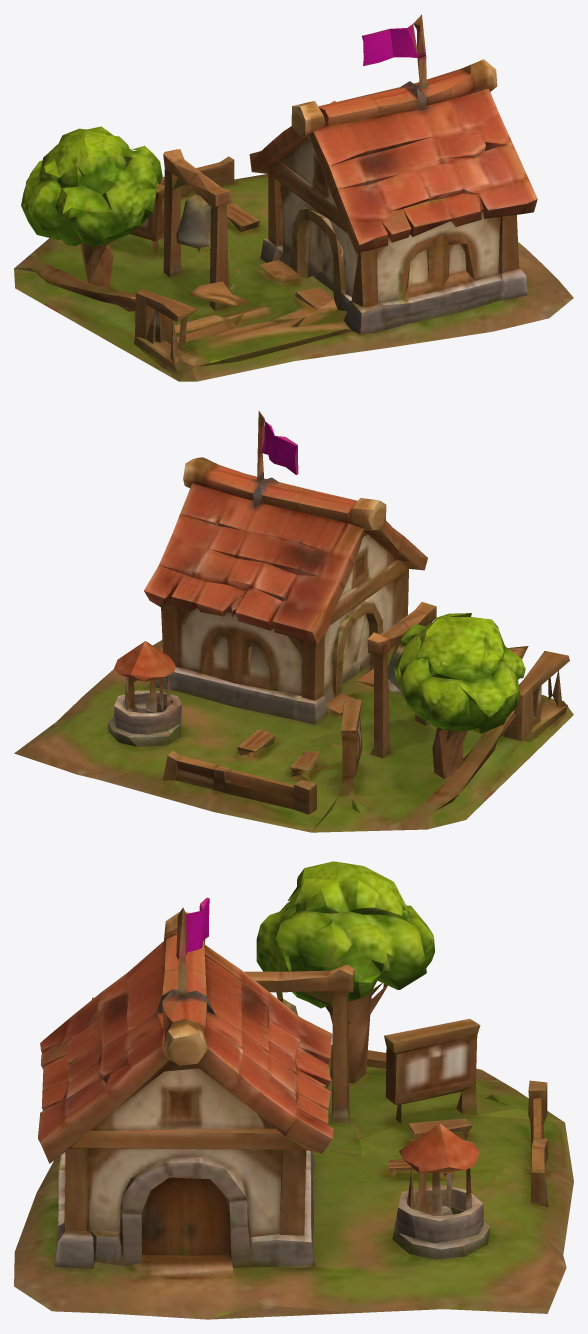
Rendered from village.lod1.glb.
3 views of the same model, one above another, from view 1: azimuth 30°, elevation 25°; view 2: azimuth 150°, elevation 25°; view 3: azimuth 270°, elevation 25° (orthographic). The views are drawn at different scales.
Visible parts, largest first — view 1: village.lod1_uv; view 2: village.lod1_uv; view 3: village.lod1_uv.
Part boxes in pixels (left/top/right/bottom): village.lod1_uv: left=14, top=14, right=573, bottom=381; village.lod1_uv: left=14, top=411, right=573, bottom=832; village.lod1_uv: left=14, top=861, right=573, bottom=1319.
Bounding box in the file's own units: 1.86 × 1.09 × 1.61.
1 material, 1 textured.
